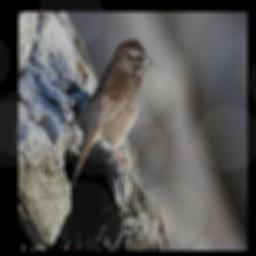Sparrow: (70, 37, 153, 190)
